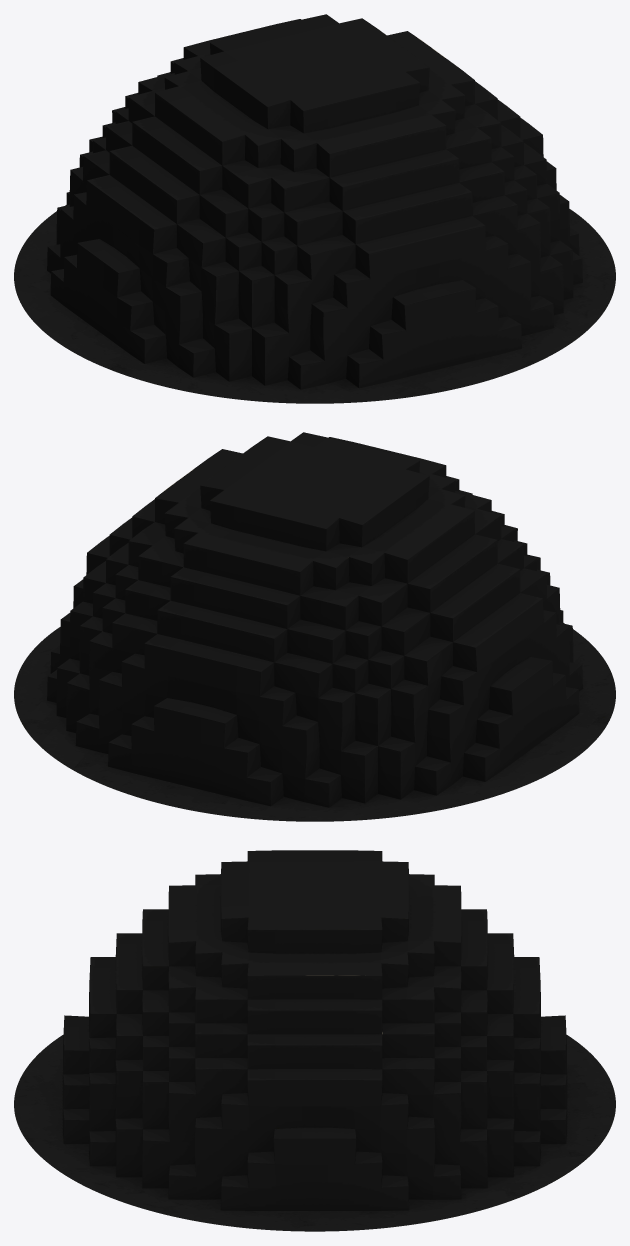
File: exhibition_videopoems_low.glb
The picture shows the model from 3 angles, top to bottom: view 1: azimuth 30°, elevation 25°; view 2: azimuth 150°, elevation 25°; view 3: azimuth 270°, elevation 25°; orthographic projection.
Visible parts, largest first — view 1: Sphere.001, Floor; view 2: Sphere.001, Floor; view 3: Sphere.001, Floor.
Part boxes in pixels (<box>): Sphere.001: <box>47,14,582,389</box>; Floor: <box>14,205,615,403</box>; Sphere.001: <box>47,432,582,807</box>; Floor: <box>14,623,615,821</box>; Sphere.001: <box>63,850,566,1210</box>; Floor: <box>14,1034,615,1231</box>.
Size of the model in its own units: 26.61 by 10.71 by 26.61.
Materials: 11 (10 with a texture image).
